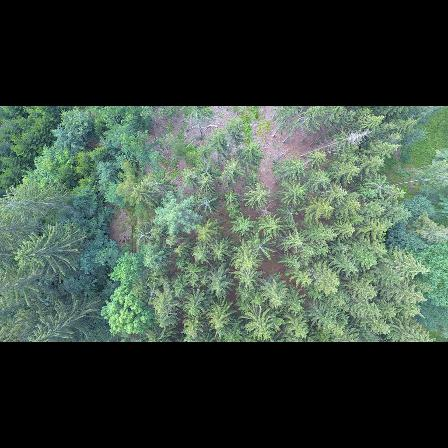Dead: (335, 130, 376, 148)
Sick: (196, 192, 218, 214), (133, 226, 155, 243)
